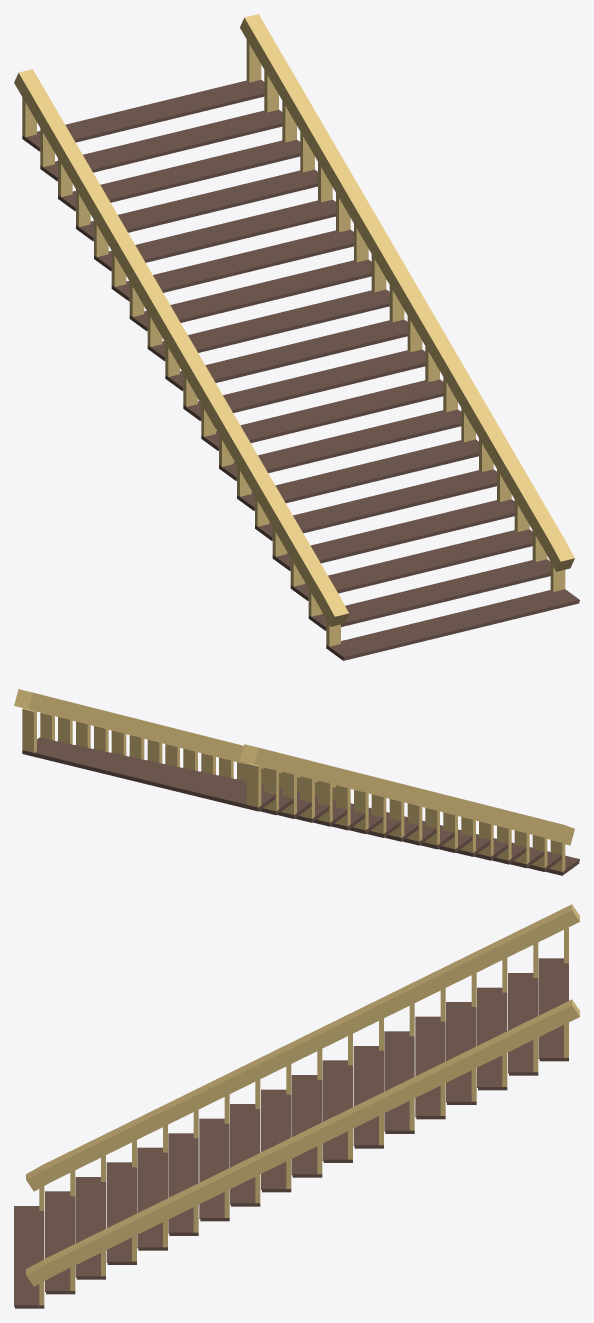
File: lowerStairs.fbx
3 views of the same model, one above another, from view 1: azimuth 30°, elevation 25°; view 2: azimuth 150°, elevation 25°; view 3: azimuth 270°, elevation 25° (orthographic). The views are drawn at different scales.
Parts seen in each view (by area): view 1: StairTile.004; view 2: StairTile.004; view 3: StairTile.004.
Boxes of the visible parts, x1,y1,x2,y2 form: StairTile.004: [14, 14, 579, 660]; StairTile.004: [14, 689, 579, 875]; StairTile.004: [14, 904, 579, 1308].
Bounding box in the file's own units: 1221 × 1713 × 2888.
